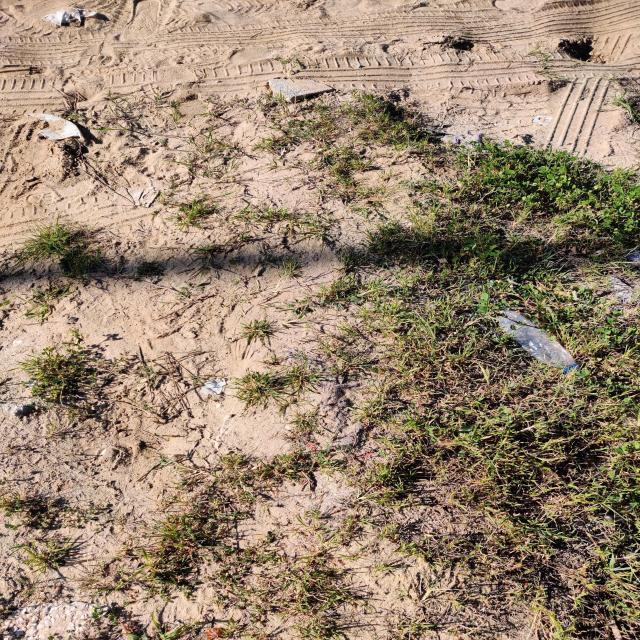litter: (493, 309, 582, 375), (22, 111, 86, 144), (39, 6, 100, 30)
